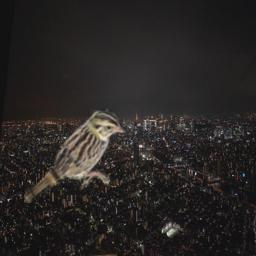Sparrow: (24, 108, 126, 203)
